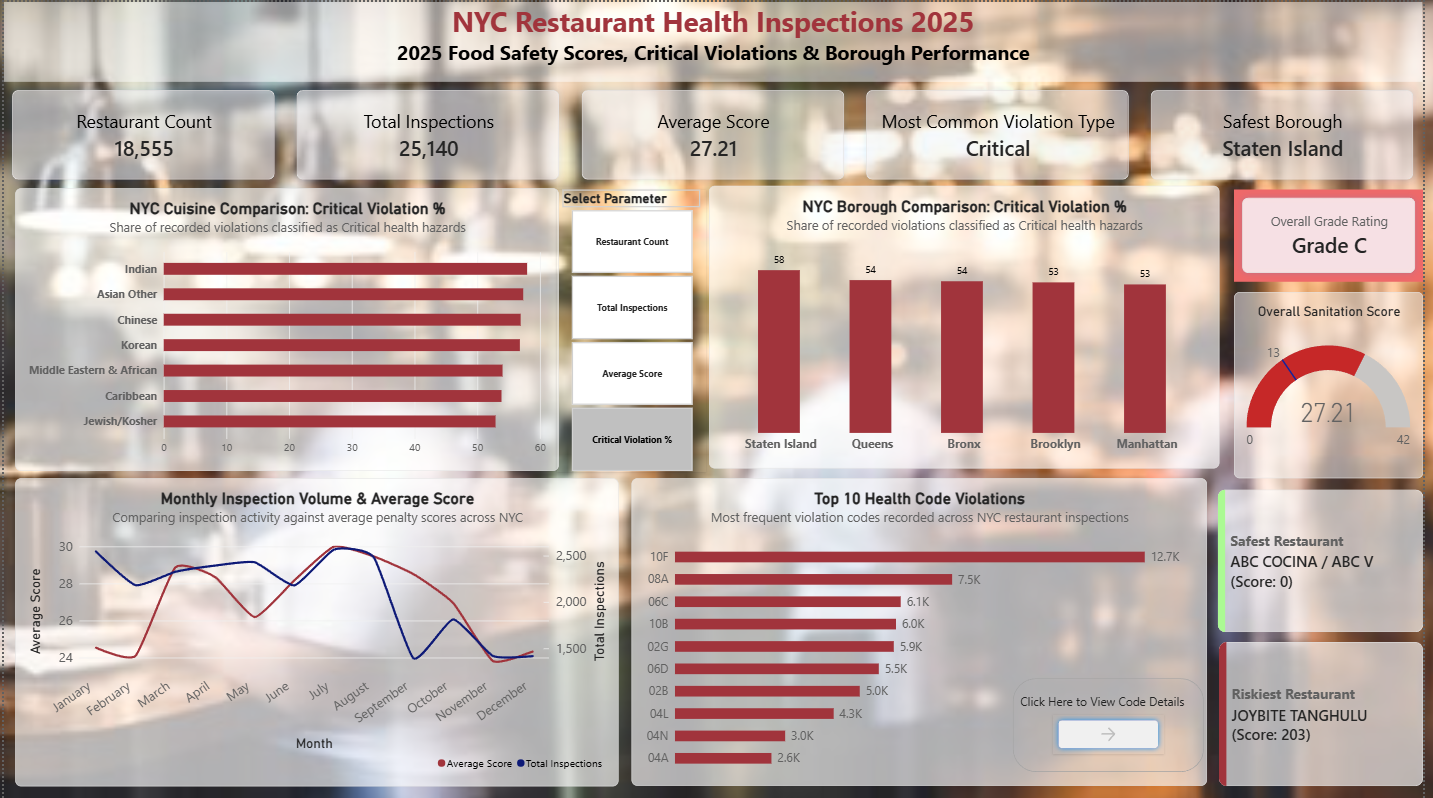

What the dashboard file says about the page in this screenshot:
{"tool":"powerbi","page":{"name":"Dashboard","canvas":[1920,1080],"ordinal":0},"visuals":[{"type":"shape","box":[1364.4,914.7,258.7,126.8],"z":0},{"type":"cardVisual","fields":{"Data":["_Measures.Restaurant Count","_Measures.Total Inspections 2025","_Measures.Average Score 2025","_Measures.Dominant Critical Flag","_Measures.Lowest Avg Inspection Score Boro 2025"]},"box":[0,108,1920,143.2],"z":1000},{"type":"textbox","box":[0,0,1918.5,108],"z":2000},{"type":"clusteredBarChart","fields":{"Category":["restaurant_health_inspection_data_analysis insp.CUISINE DESCRIPTION"],"Y":["_Measures.Critical Violation %"]},"box":[15,252.5,735,382.5],"z":3000},{"type":"clusteredColumnChart","fields":{"Category":["restaurant_health_inspection_data_analysis insp.BORO"],"Y":["_Measures.Critical Violation %"]},"box":[954,248,690,382.5],"z":4000},{"type":"slicer","fields":{"Values":["Parameter.Parameter"]},"box":[748.1,253.8,202.6,382.6],"z":5000},{"type":"lineChart","title":"Monthly Inspection Volume & Average Score","fields":{"Category":["restaurant_health_inspection_data_analysis insp.INSPECTION DATE.Variation.Date Hierarchy.Month"],"Y":["_Measures.Average Score"],"Y2":["_Measures.Total Inspections"]},"box":[15.2,643.9,816.3,416.7],"z":6000},{"type":"gauge","title":"Overall Sanitation Score","fields":{"MaxValue":["Gauge.Gauge Max"],"MinValue":["Gauge.Gauge Min"],"TargetValue":["Gauge.Gauge Grade A Cutoff"],"Y":["_Measures.Average Score"]},"box":[1662.8,392,255.7,251.9],"z":7000},{"type":"clusteredBarChart","title":" Top 10 Health Code Violations","fields":{"Category":["Violation Code Reference.Violation Code"],"Y":["_Measures.Total Inspections"]},"box":[848.5,643.9,778,416],"z":8000},{"type":"cardVisual","fields":{"Data":["Gauge.Overall Grade Rating"]},"box":[1663.1,253.4,257,124.9],"z":9000},{"type":"actionButton","box":[1418.5,963.7,150.3,53.4],"z":10000},{"type":"textbox","box":[1374.5,934.9,240.1,28.7],"z":11000},{"type":"cardVisual","fields":{"Data":["_Measures.Lowest Score Restaurant 2025"]},"box":[1642,659.1,278.4,193.2],"z":12000},{"type":"cardVisual","fields":{"Data":["_Measures.Riskiest Restaurant"]},"box":[1643.9,865.5,276.5,195.1],"z":13000}]}

Visuals, with their boxes in screenshot pixels (x1, y1, x2, y2), scaled from the page's 1920x1080 canvas onto the 1433x798 screenshot:
shape: bbox=(1018, 676, 1211, 770)
cardVisual - _Measures.Restaurant Count x _Measures.Total Inspections 2025: bbox=(0, 80, 1432, 186)
textbox: bbox=(0, 0, 1432, 80)
clusteredBarChart - restaurant_health_inspection_data_analysis insp.CUISINE DESCRIPTION x _Measures.Critical Violation %: bbox=(11, 187, 560, 469)
clusteredColumnChart - restaurant_health_inspection_data_analysis insp.BORO x _Measures.Critical Violation %: bbox=(712, 183, 1227, 466)
slicer - Parameter.Parameter: bbox=(558, 188, 710, 470)
"Monthly Inspection Volume & Average Score" lineChart: bbox=(11, 476, 621, 784)
"Overall Sanitation Score" gauge: bbox=(1241, 290, 1432, 476)
" Top 10 Health Code Violations" clusteredBarChart: bbox=(633, 476, 1214, 783)
cardVisual - Gauge.Overall Grade Rating: bbox=(1241, 187, 1432, 280)
actionButton: bbox=(1059, 712, 1171, 752)
textbox: bbox=(1026, 691, 1205, 712)
cardVisual - _Measures.Lowest Score Restaurant 2025: bbox=(1226, 487, 1432, 630)
cardVisual - _Measures.Riskiest Restaurant: bbox=(1227, 640, 1432, 784)
